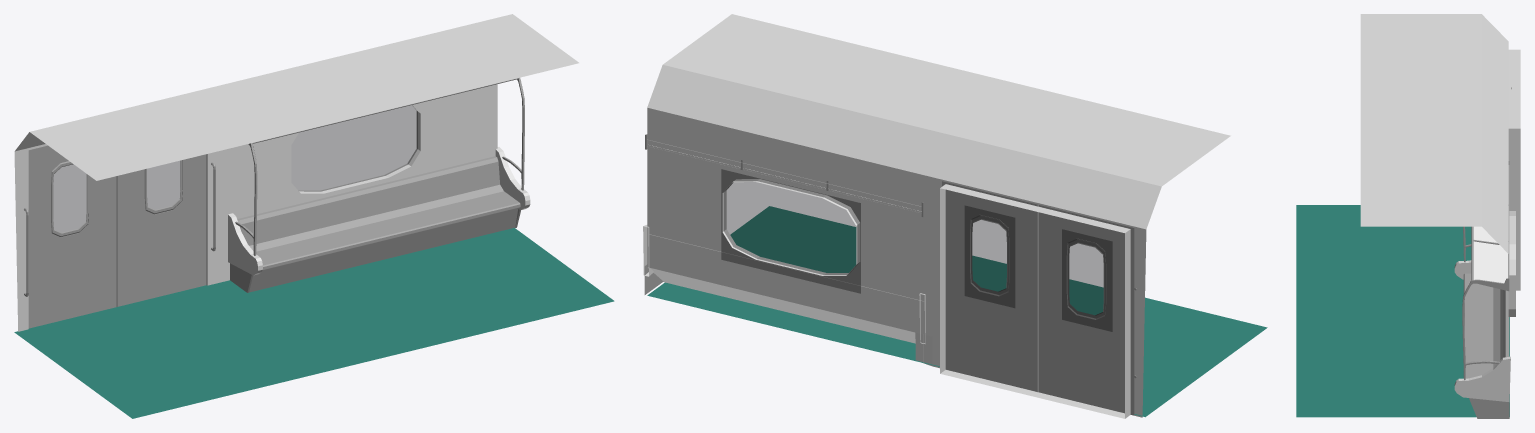
File: metro.fbx
3 views of the same model, side by side, from view 1: azimuth 30°, elevation 25°; view 2: azimuth 150°, elevation 25°; view 3: azimuth 270°, elevation 25° (orthographic). The views are drawn at different scales.
Visible parts, largest first — view 1: Floor, Cart_Skeleton, Doors, Seat_Seat, Seat_Window, Seat_Underside, Door_Window_L, Seat_Side, Door_Window_R, Luggage_Frame; view 2: Cart_Skeleton, Doors, Floor, Seat_Window, Door_Window_L, Door_Window_R; view 3: Cart_Skeleton, Floor, Seat_Seat, Seat_Side, Luggage_Net, Luggage_Frame, Seat_Underside.
Boxes of the visible parts, x1,y1,x2,y2 form: Floor: (14,228,614,418); Cart_Skeleton: (14,14,578,331); Doors: (28,145,206,328); Seat_Seat: (237,156,520,269); Seat_Window: (291,105,417,191); Seat_Underside: (230,208,520,292); Door_Window_L: (53,164,86,232); Seat_Side: (228,147,530,275); Door_Window_R: (147,161,179,209); Luggage_Frame: (235,77,524,255); Cart_Skeleton: (647,14,1230,418); Doors: (942,181,1134,415); Floor: (647,206,1267,417); Seat_Window: (721,169,860,293); Door_Window_L: (1062,229,1112,331); Door_Window_R: (965,206,1014,307); Cart_Skeleton: (1360,14,1520,316); Floor: (1296,205,1509,417); Seat_Seat: (1463,273,1509,378); Seat_Side: (1454,260,1510,402); Luggage_Net: (1473,226,1507,282); Luggage_Frame: (1462,160,1509,380); Seat_Underside: (1469,398,1509,418).
Size of the model in its own units: 756 by 318 by 335.
